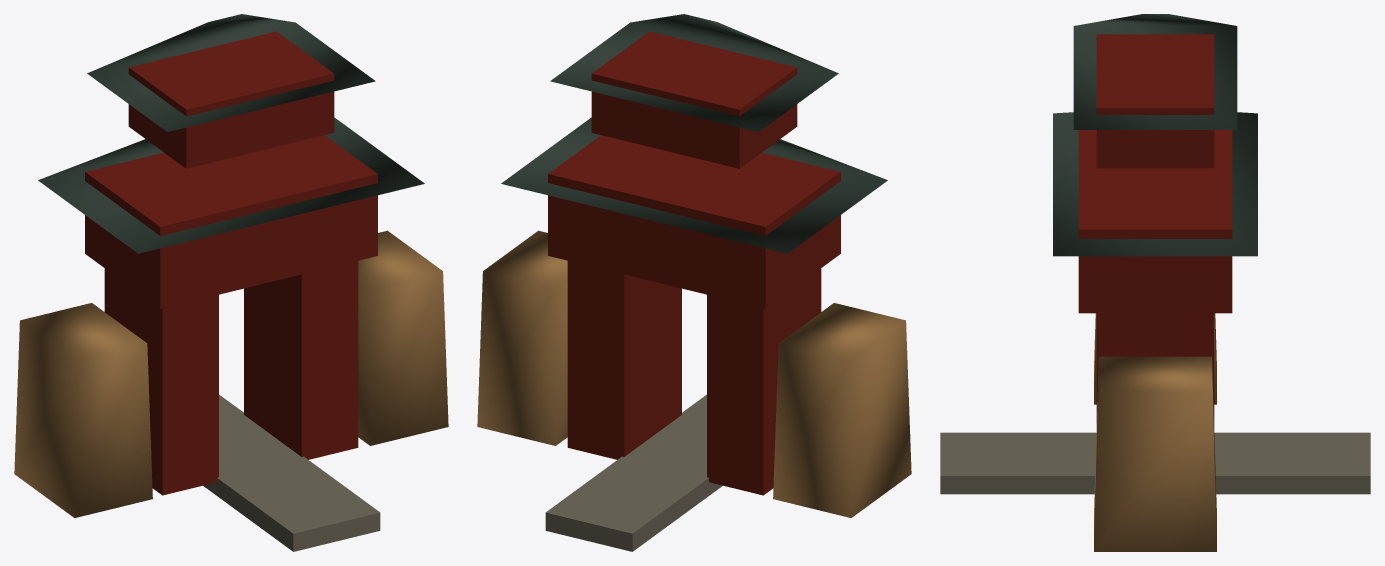
File: R23_HAN_LUOYANG_SOUTH_PALACE_NORTH_GATE_A.fbx
The picture shows the model from 3 angles, left to right: view 1: azimuth 30°, elevation 25°; view 2: azimuth 150°, elevation 25°; view 3: azimuth 270°, elevation 25°; orthographic projection. The views are drawn at different scales.
Parts seen in each view (by area): view 1: house_lower, wall_e, pier_w, house_upper, wall_w, pier_e, road, roof_lower, roof_upper; view 2: house_lower, wall_e, pier_w, house_upper, wall_w, pier_e, road, roof_lower, roof_upper; view 3: wall_w, house_lower, road, house_upper, roof_lower, roof_upper, pier_w.
Boxes of the visible parts, left/top/right/bottom form: house_lower: left=85, top=135, right=377, bottom=308; wall_e: left=14, top=303, right=152, bottom=517; pier_w: left=244, top=261, right=358, bottom=459; house_upper: left=128, top=31, right=334, bottom=168; wall_w: left=358, top=230, right=448, bottom=445; pier_e: left=104, top=268, right=218, bottom=495; road: left=203, top=394, right=380, bottom=551; roof_lower: left=38, top=117, right=424, bottom=253; roof_upper: left=87, top=14, right=375, bottom=131; house_lower: left=548, top=135, right=840, bottom=308; wall_e: left=773, top=303, right=911, bottom=517; pier_w: left=567, top=261, right=681, bottom=459; house_upper: left=591, top=31, right=797, bottom=168; wall_w: left=477, top=230, right=567, bottom=445; pier_e: left=707, top=268, right=821, bottom=495; road: left=545, top=394, right=722, bottom=551; roof_lower: left=501, top=117, right=887, bottom=253; roof_upper: left=550, top=14, right=838, bottom=131; wall_w: left=1094, top=356, right=1216, bottom=551; house_lower: left=1078, top=130, right=1232, bottom=313; road: left=940, top=432, right=1370, bottom=494; house_upper: left=1096, top=34, right=1214, bottom=168; roof_lower: left=1053, top=112, right=1257, bottom=256; roof_upper: left=1073, top=14, right=1237, bottom=129; pier_w: left=1096, top=313, right=1214, bottom=422.
Bounding box in the file's own units: 86 × 97 × 84.
